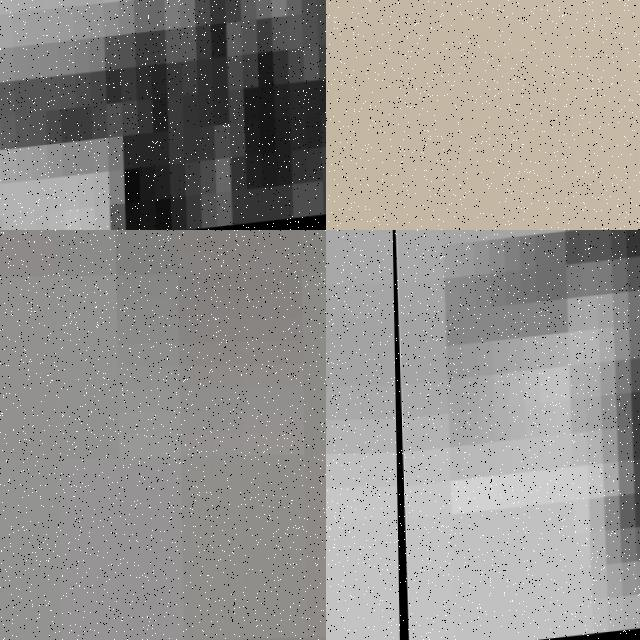drone: (388, 230, 640, 640), (0, 0, 326, 230), (326, 0, 640, 230)
